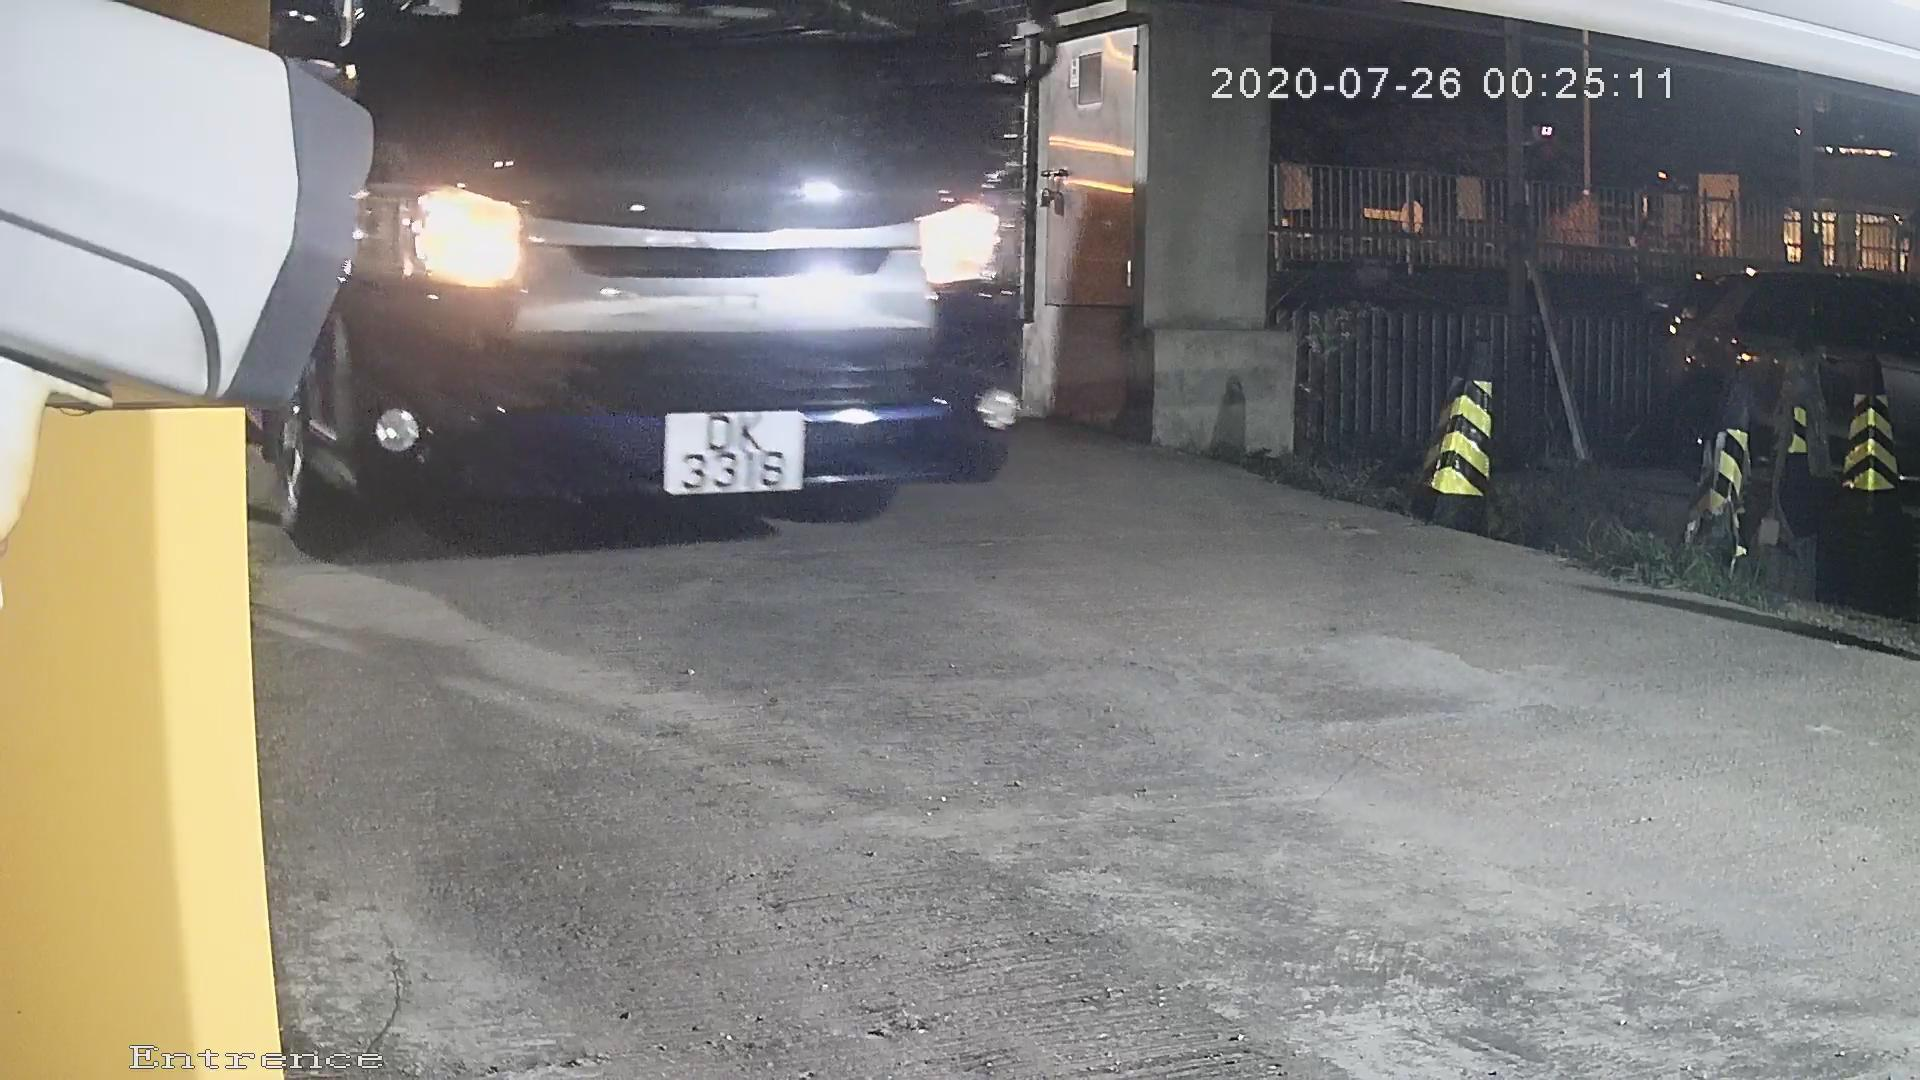privatecar: (223, 1, 1098, 593)
